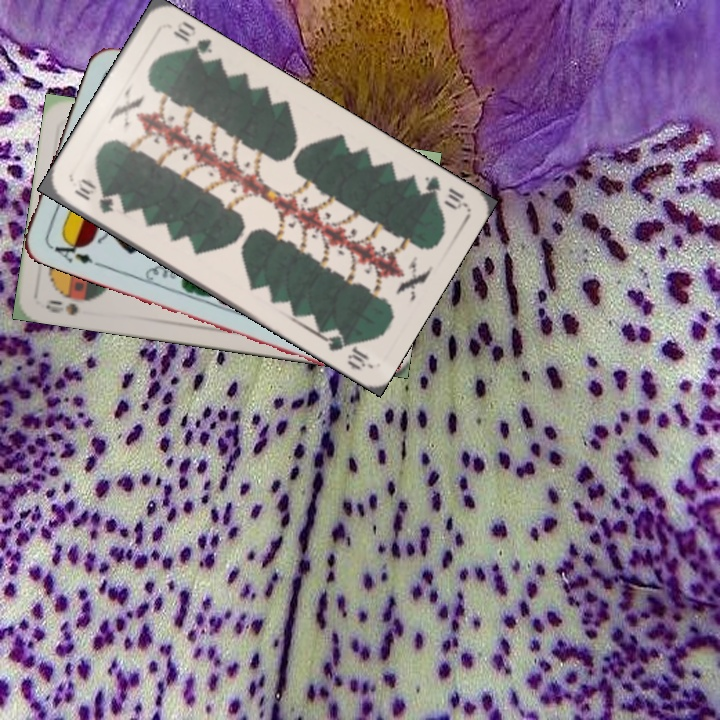EA: (45, 233, 103, 269)
G10: (410, 172, 468, 213), (69, 175, 117, 217)
SO: (42, 290, 100, 318)
